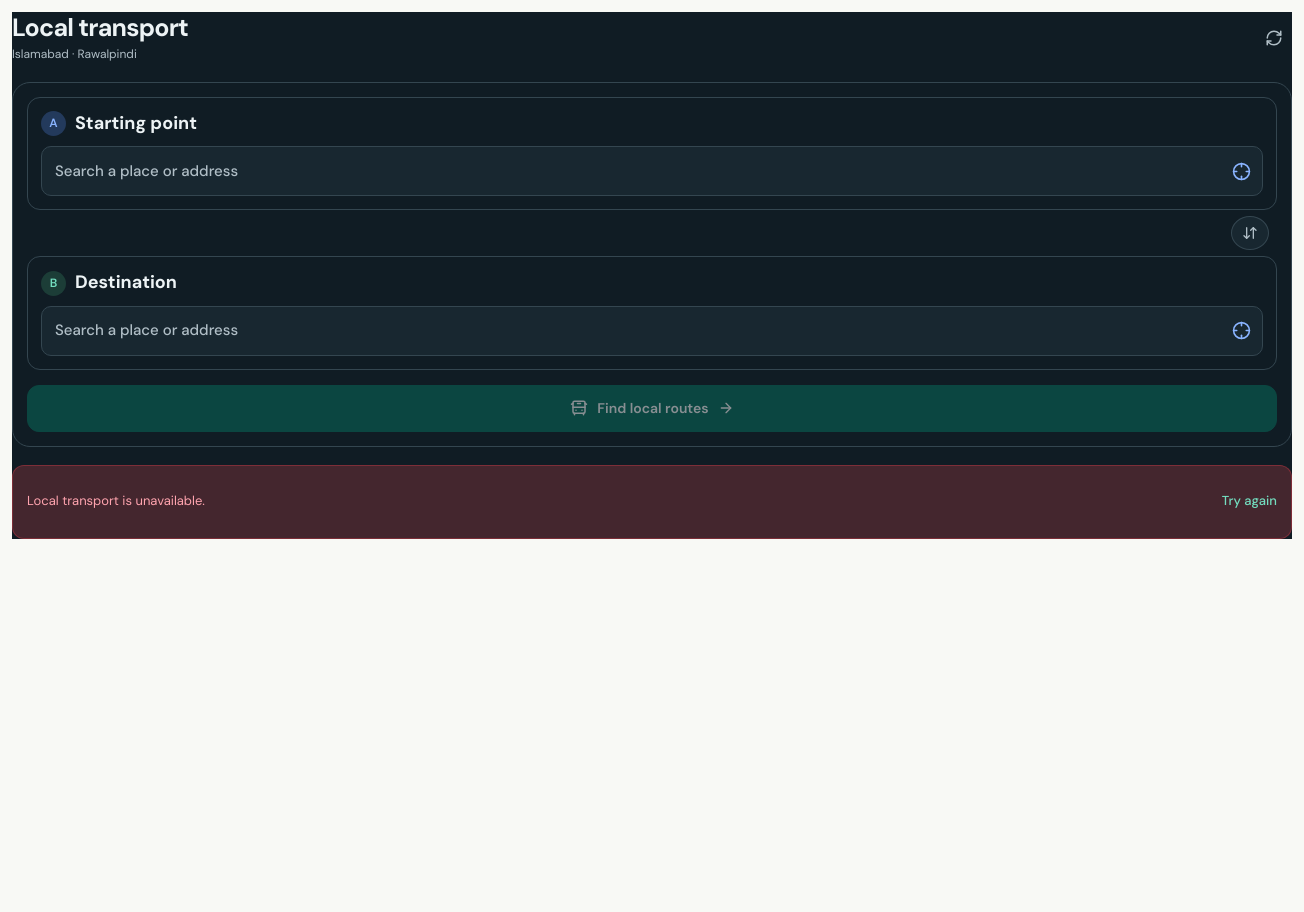
Test: offers an explicit retry after an initial Local download fails
The width and height of the screenshot is (1304, 912).
Expected: the message shows "Local transport is unavailable.", [27, 492, 205, 509]
What coordinates should you click on to do the following:
click the button "Try again"
I would click on:
 (1249, 502)
Its box is [1222, 480, 1277, 524].
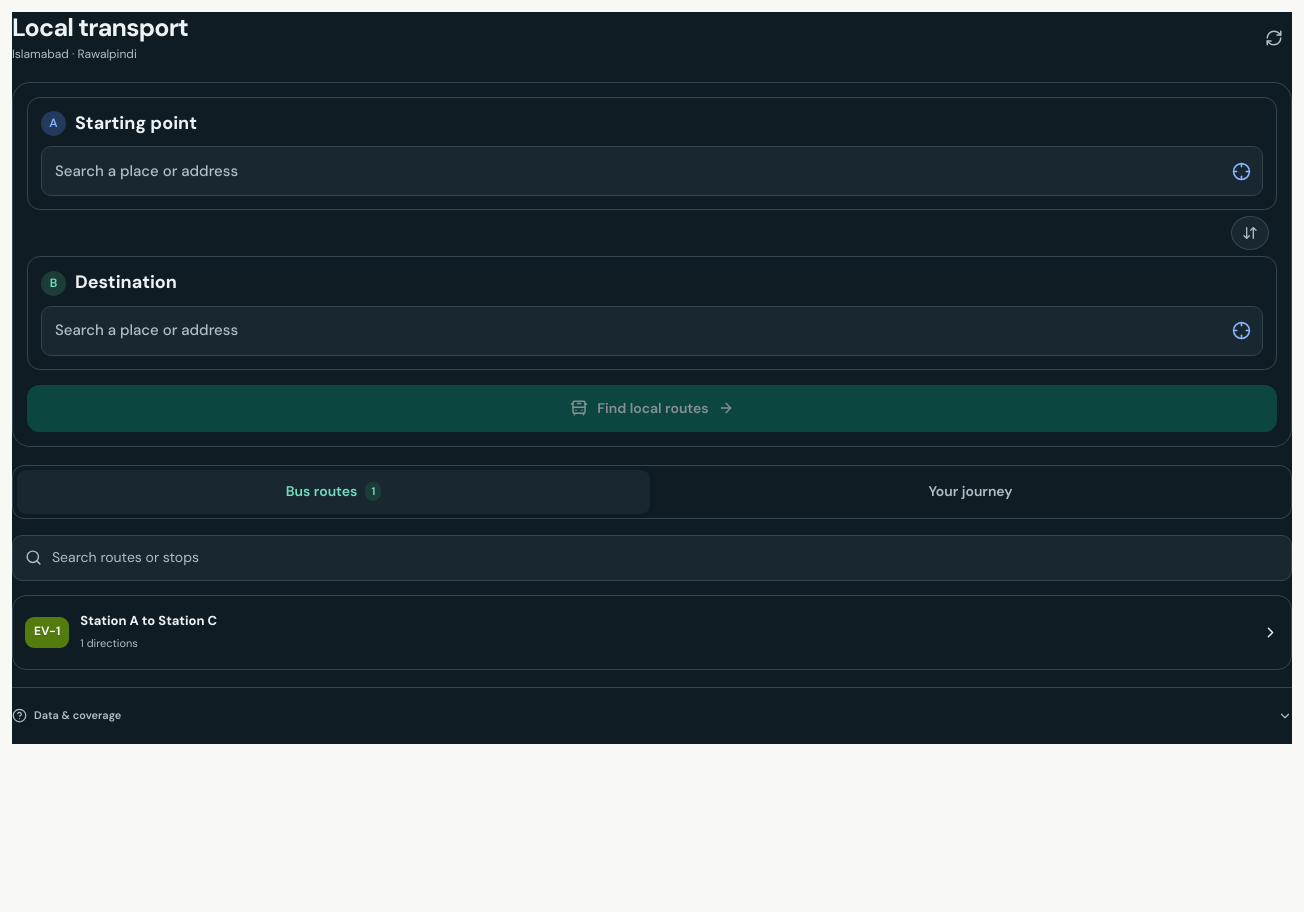
Now the button "EV-1 Station A to Station C 1 directions" is shown, box [12, 595, 1292, 670]
Now the message "Local transport is unavailable. Try again" is gone
